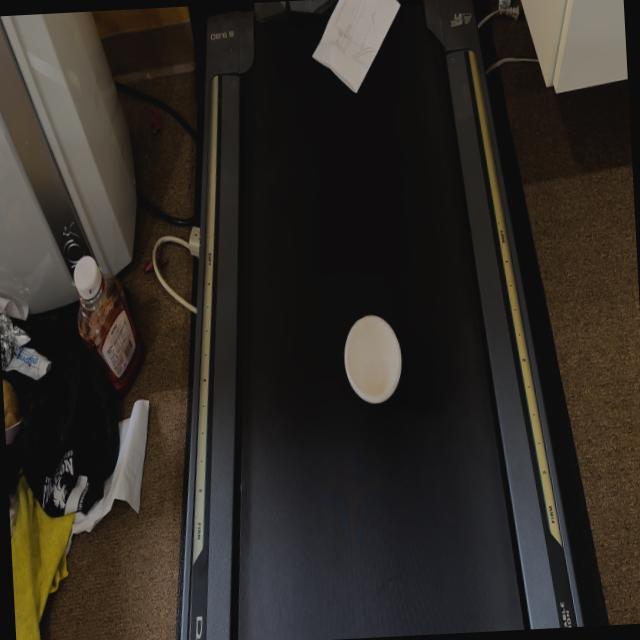Recycle: (308, 0, 405, 97), (342, 314, 404, 408)
